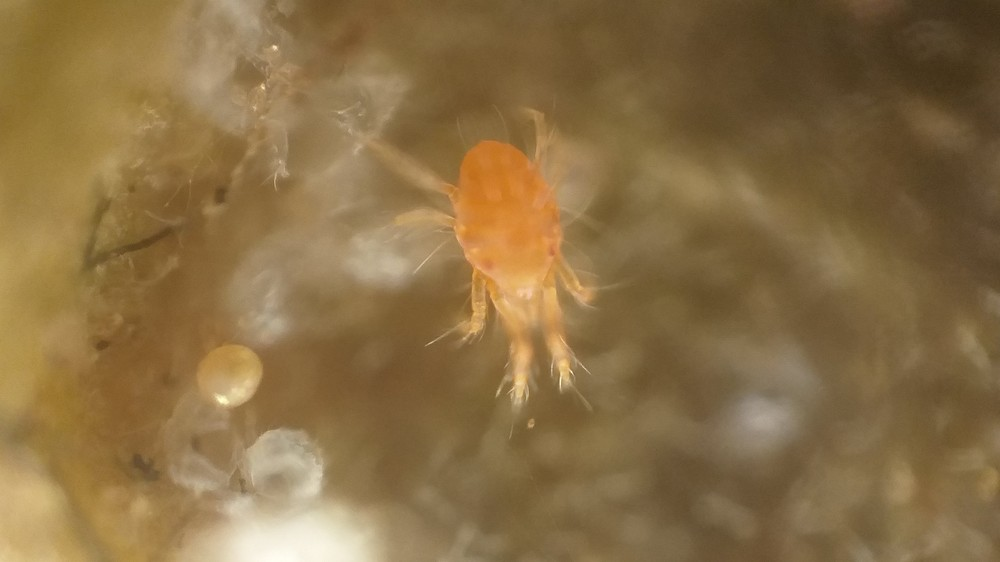Aracnido Rojo: (365, 103, 667, 431)
